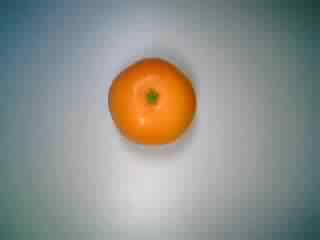orange: (105, 52, 200, 154)
